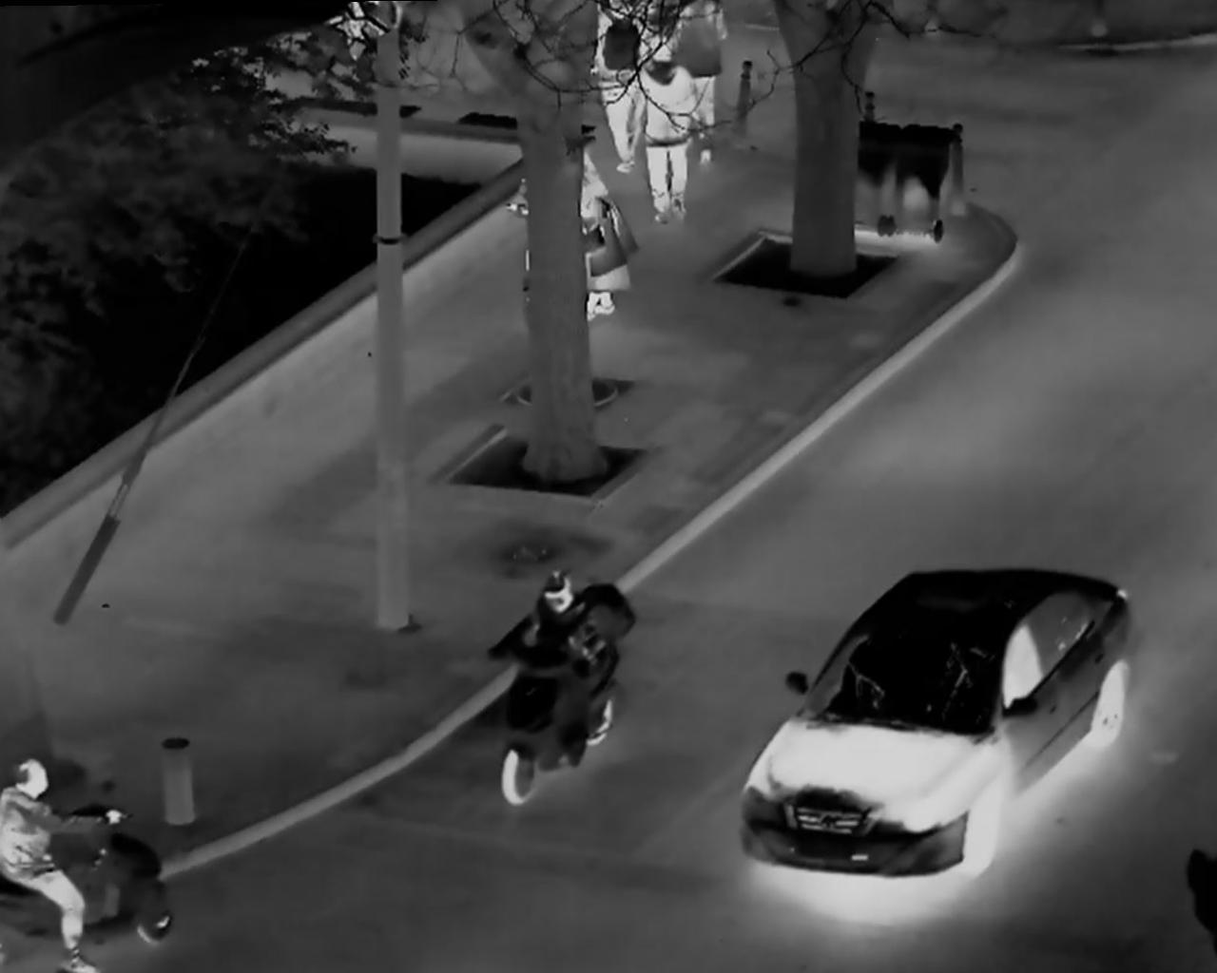person: (480, 563, 636, 804), (5, 754, 129, 968), (632, 36, 707, 230), (590, 4, 656, 165)
